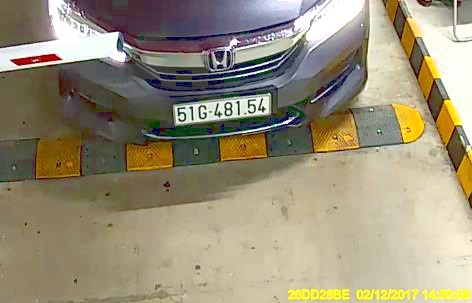plate: (170, 95, 273, 128)
